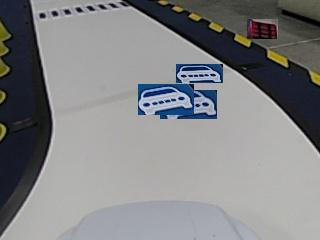crosswalk: (36, 1, 127, 19)
